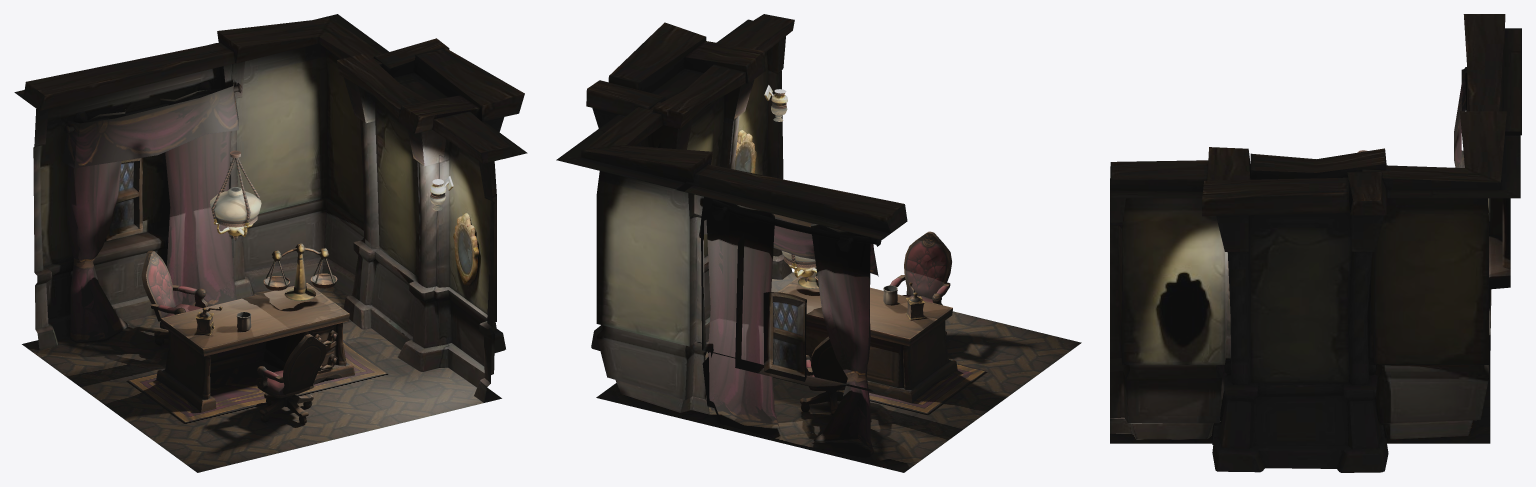
The model's file is small-room-baked.glb.
The picture shows the model from 3 angles, left to right: view 1: azimuth 30°, elevation 25°; view 2: azimuth 150°, elevation 25°; view 3: azimuth 270°, elevation 25°; orthographic projection. The views are drawn at different scales.
Parts seen in each view (by area): view 1: walls_Baked, floor_Baked, curtain_Baked, desk_Baked, armchair__1__Baked, armchair_Baked, oil_lamp_chandelier_01_Baked, scale_Baked; view 2: walls_Baked, curtain_Baked, floor_Baked, desk_Baked, armchair__1__Baked, armchair_Baked, oil_lamp_chandelier_01_Baked; view 3: walls_Baked, floor_Baked, curtain_Baked.
Boxes of the visible parts, left/top/right/bottom form: walls_Baked: left=14, top=14, right=527, bottom=402; floor_Baked: left=22, top=282, right=501, bottom=472; curtain_Baked: left=62, top=80, right=241, bottom=342; desk_Baked: left=156, top=283, right=354, bottom=412; armchair__1__Baked: left=256, top=334, right=326, bottom=424; armchair_Baked: left=141, top=250, right=207, bottom=350; oil_lamp_chandelier_01_Baked: left=210, top=150, right=261, bottom=240; scale_Baked: left=263, top=243, right=337, bottom=300; walls_Baked: left=556, top=14, right=907, bottom=448; curtain_Baked: left=704, top=199, right=881, bottom=455; floor_Baked: left=596, top=272, right=1081, bottom=472; desk_Baked: left=778, top=275, right=957, bottom=403; armchair__1__Baked: left=889, top=231, right=951, bottom=340; armchair_Baked: left=800, top=336, right=847, bottom=415; oil_lamp_chandelier_01_Baked: left=782, top=251, right=816, bottom=281; walls_Baked: left=1110, top=14, right=1521, bottom=472; floor_Baked: left=1110, top=365, right=1490, bottom=443; curtain_Baked: left=1454, top=67, right=1466, bottom=167.
Bounding box in the file's own units: 7.28 × 4.85 × 6.5.
11 materials, 11 textured.
